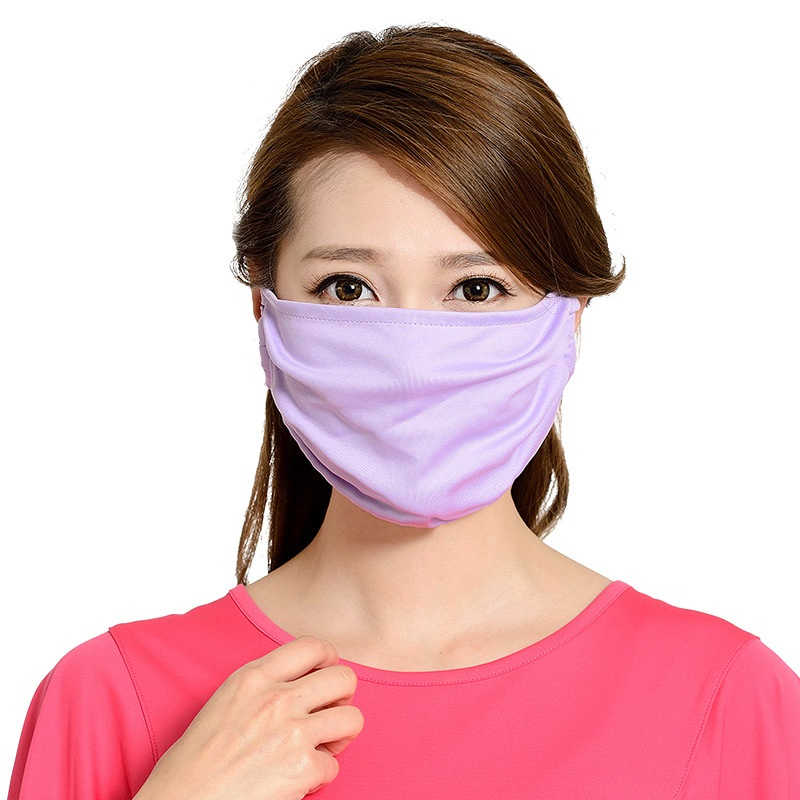face_mask: (276, 140, 554, 498)
